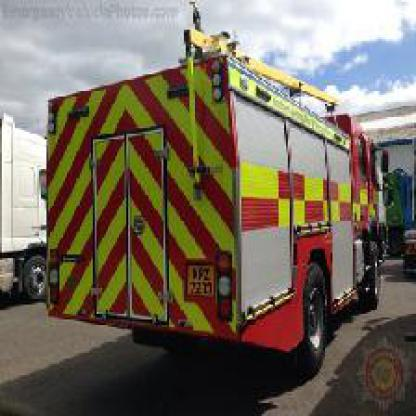emergency: (39, 2, 396, 384)
not_emergency: (2, 93, 50, 312)
